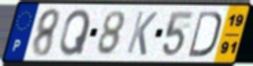5: (161, 10, 196, 58)
8: (29, 7, 61, 58), (95, 10, 127, 57)
D: (186, 9, 224, 59)
K: (124, 9, 159, 57)
Q: (58, 8, 93, 58)
